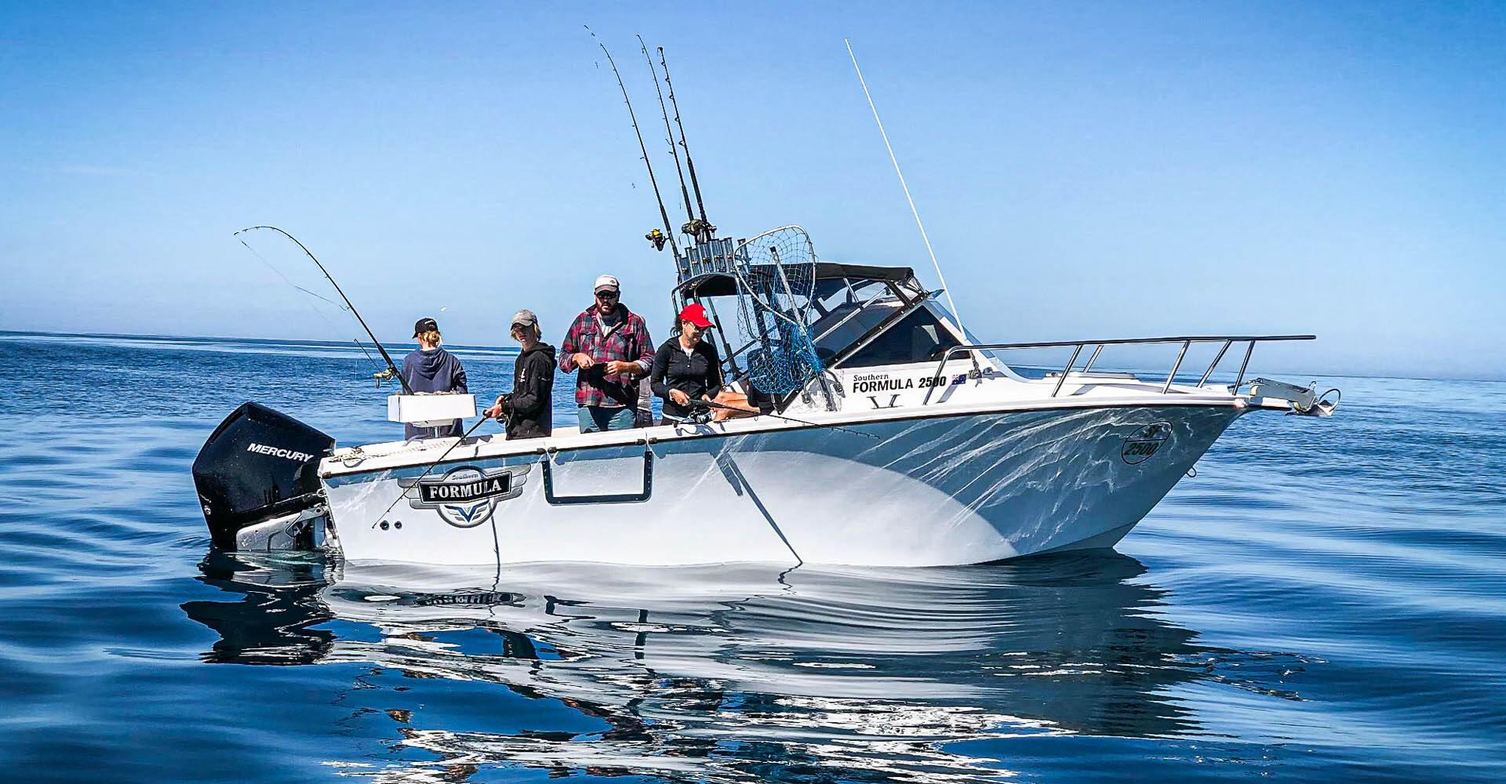fishing boat: (127, 16, 1351, 580)
